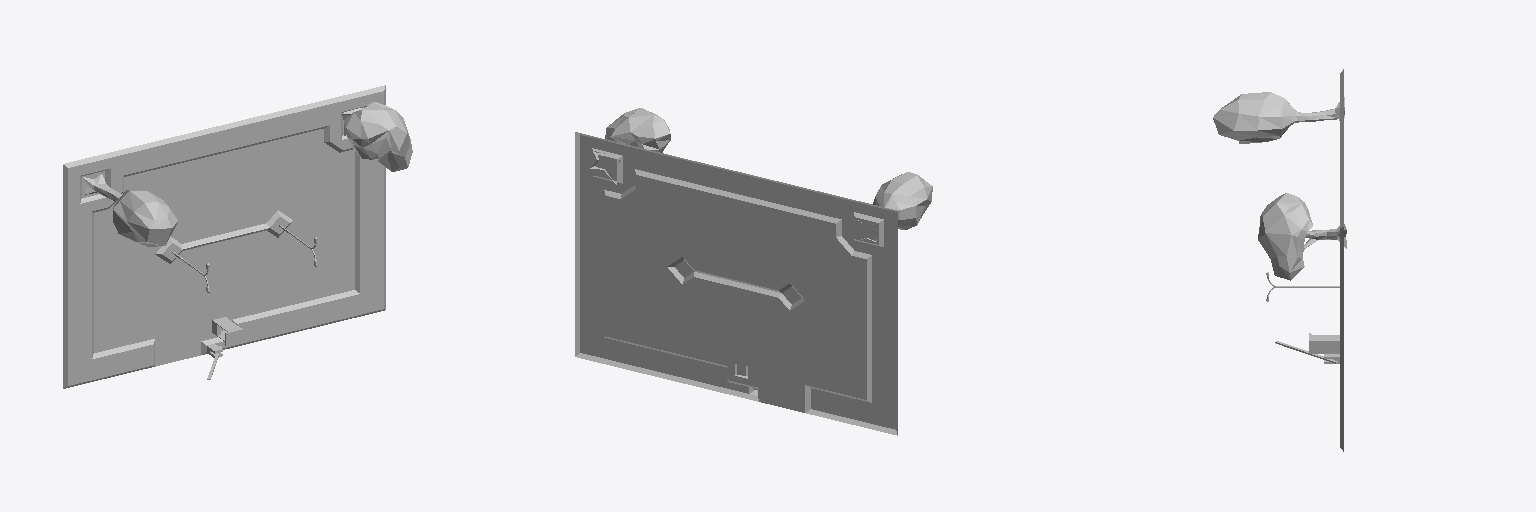
Rendered from parking_lot(1).obj.
3 views of the same model, side by side, from view 1: azimuth 30°, elevation 25°; view 2: azimuth 150°, elevation 25°; view 3: azimuth 270°, elevation 25° (orthographic).
Visible parts, largest first — view 1: Plane002, Tree_004, Box010; view 2: Plane002, Box010, Tree_004; view 3: Tree_004, Box010, Plane002.
Part boxes in pixels (bbox=[...]): Plane002: bbox=[63, 85, 385, 388]; Tree_004: bbox=[342, 102, 412, 171]; Box010: bbox=[82, 174, 177, 246]; Plane002: bbox=[575, 132, 897, 435]; Box010: bbox=[858, 172, 932, 242]; Tree_004: bbox=[590, 108, 670, 184]; Tree_004: bbox=[1258, 193, 1346, 280]; Box010: bbox=[1213, 92, 1344, 143]; Plane002: bbox=[1309, 69, 1343, 451].
Size of the model in its own units: 375 by 260 by 135.